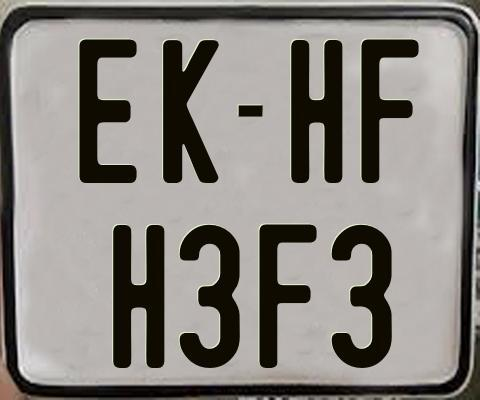3: (330, 225, 396, 374), (177, 222, 240, 367)
E: (77, 36, 141, 186)
F: (358, 37, 422, 186), (256, 224, 319, 373)
H: (291, 37, 344, 181), (111, 225, 164, 368)
K: (162, 37, 219, 182)
